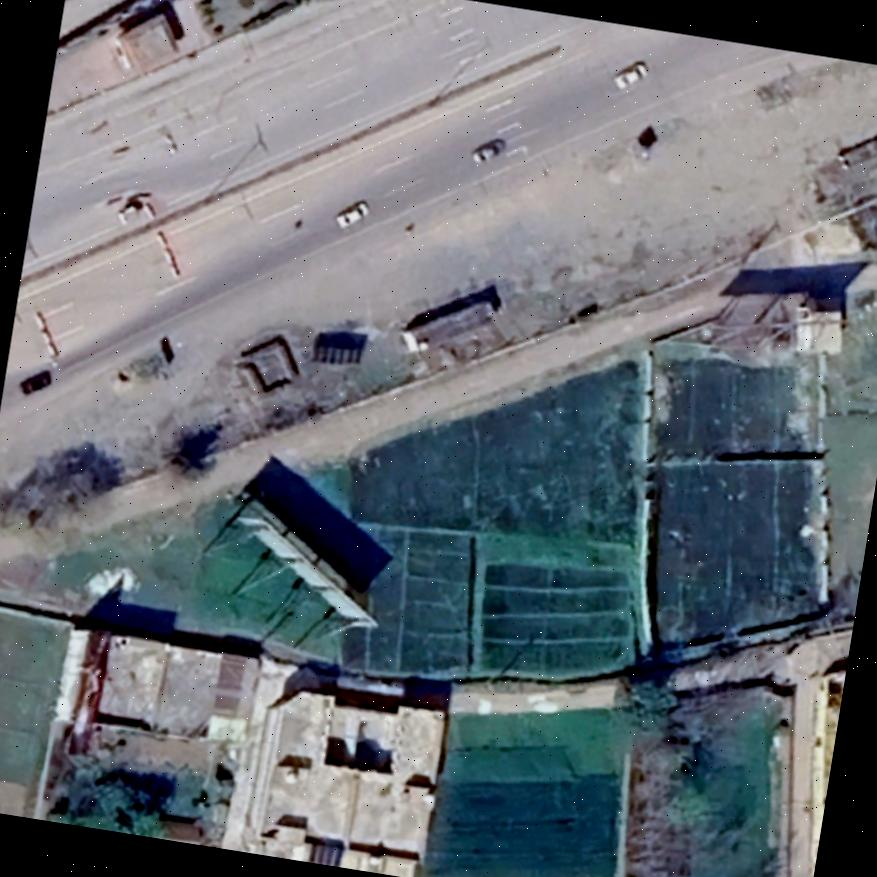Solarpanel: (304, 834, 346, 868)
